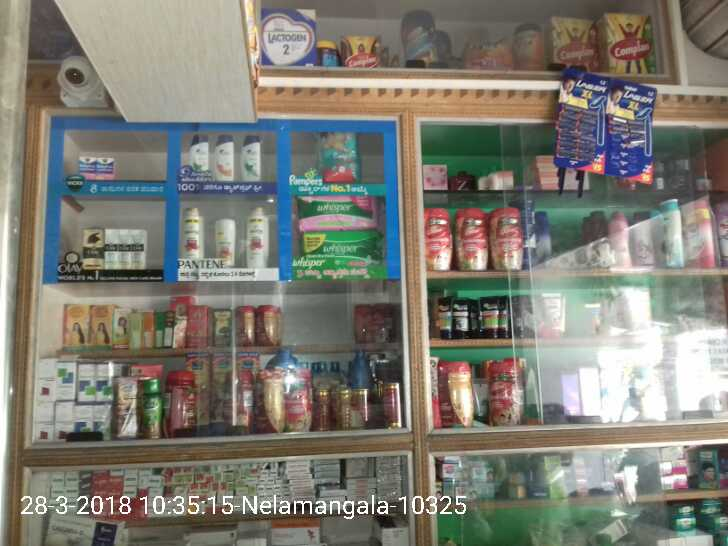vicks: (95, 156, 118, 179), (79, 155, 95, 179)
